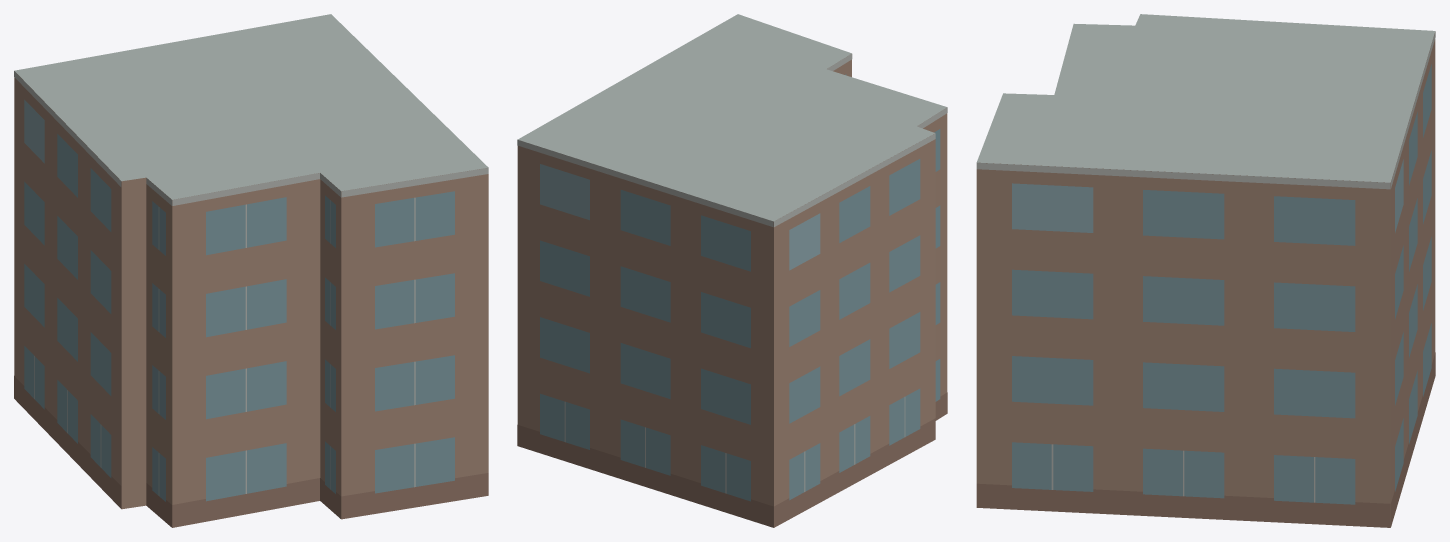
The model's file is survey-upis-32584887.glb.
The picture shows the model from 3 angles, left to right: view 1: azimuth 30°, elevation 25°; view 2: azimuth 150°, elevation 25°; view 3: azimuth 270°, elevation 25°; orthographic projection. The views are drawn at different scales.
Visible parts, largest first — view 1: survey-upis-32584887.tmp; view 2: survey-upis-32584887.tmp; view 3: survey-upis-32584887.tmp.
Part boxes in pixels (<box>): survey-upis-32584887.tmp: <box>14,14,488,527</box>; survey-upis-32584887.tmp: <box>517,14,947,527</box>; survey-upis-32584887.tmp: <box>976,14,1435,527</box>.
Size of the model in its own units: 13.32 by 12.7 by 15.31.
